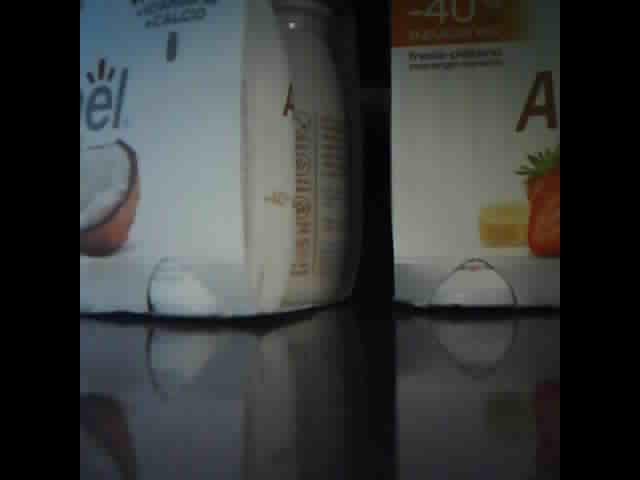actimel: (82, 1, 364, 323), (392, 1, 560, 308)
